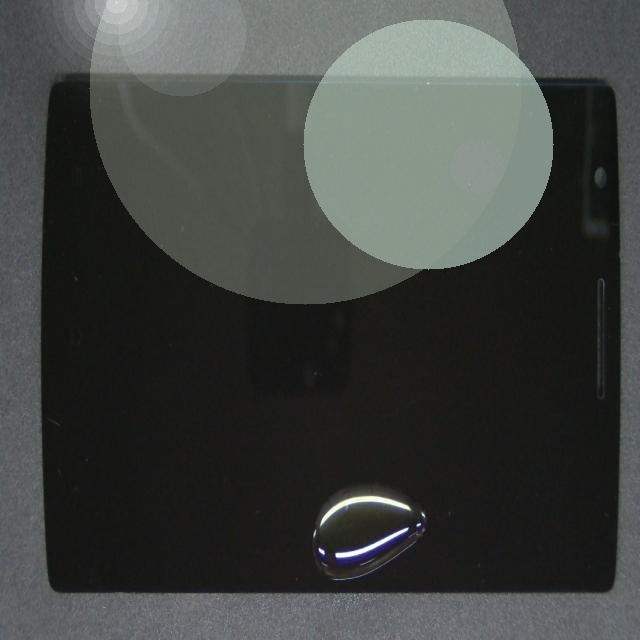oil: (241, 268, 615, 640)
